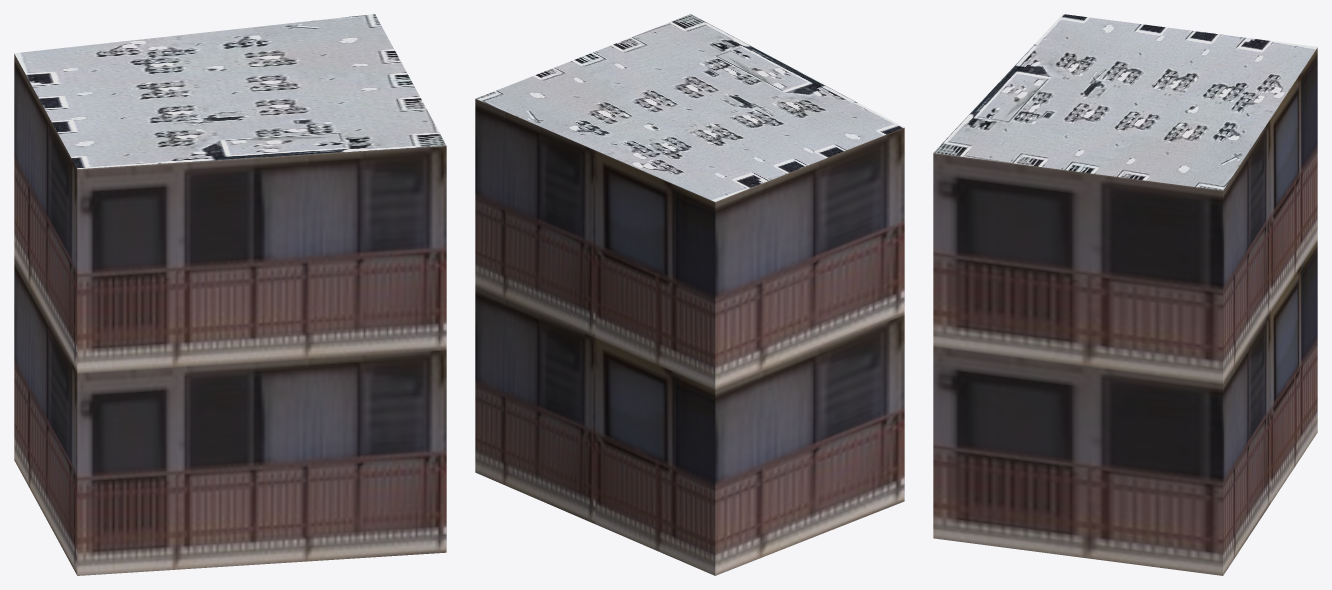
The model's file is ResTex__386.fbx.
3 renders of one model, left to right at view 1: azimuth 30°, elevation 25°; view 2: azimuth 150°, elevation 25°; view 3: azimuth 270°, elevation 25°, orthographic. The views are drawn at different scales.
Parts seen in each view (by area): view 1: CityEngineMaterial_6_m, CityEngineMaterial_4_m; view 2: CityEngineMaterial_6_m, CityEngineMaterial_4_m; view 3: CityEngineMaterial_6_m, CityEngineMaterial_4_m.
Part boxes in pixels (x1,y1,x2,y2): CityEngineMaterial_6_m: [14, 54, 446, 575]; CityEngineMaterial_4_m: [14, 14, 446, 168]; CityEngineMaterial_6_m: [475, 99, 904, 575]; CityEngineMaterial_4_m: [476, 14, 903, 201]; CityEngineMaterial_6_m: [933, 47, 1317, 575]; CityEngineMaterial_4_m: [933, 14, 1317, 190].
Bounding box in the file's own units: 5.9 × 6 × 5.43.
2 materials, 2 textured.
